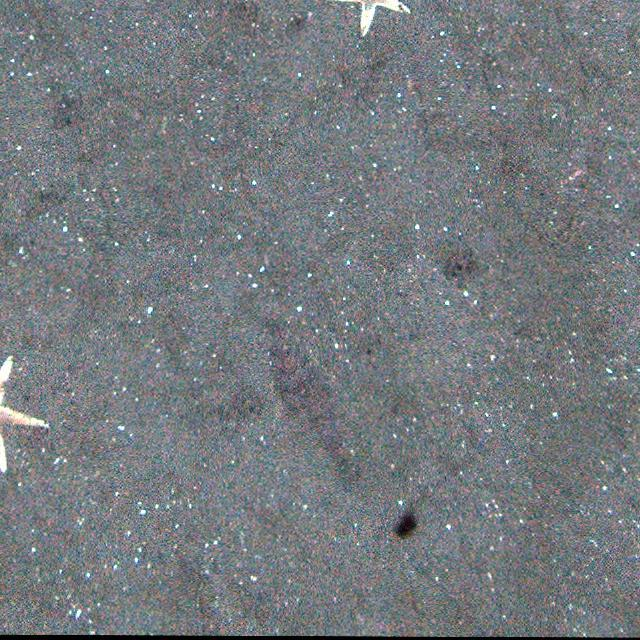flatfish: (272, 338, 374, 491)
